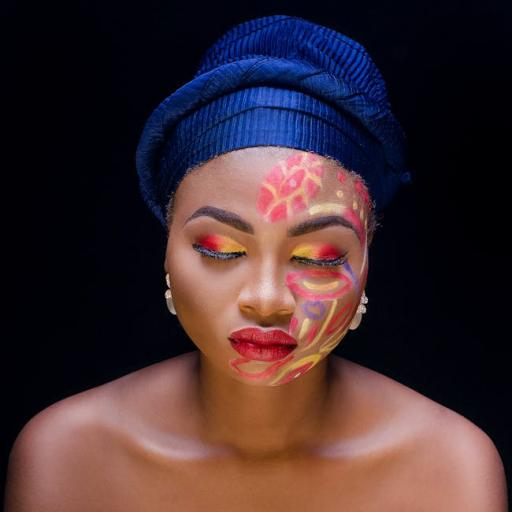lipstick: (229, 328, 296, 361)
